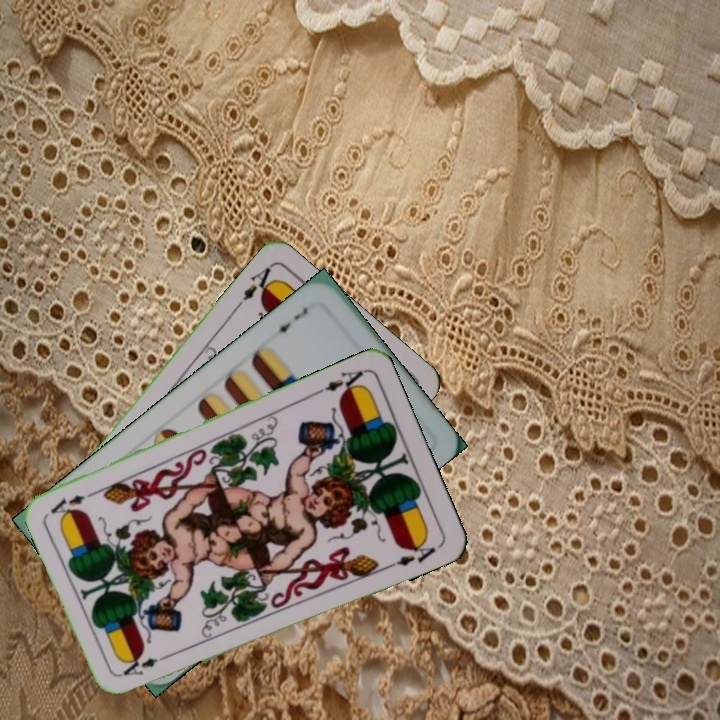E7: (268, 302, 311, 338)
EA: (312, 366, 368, 399), (238, 260, 279, 304), (116, 650, 174, 679)
